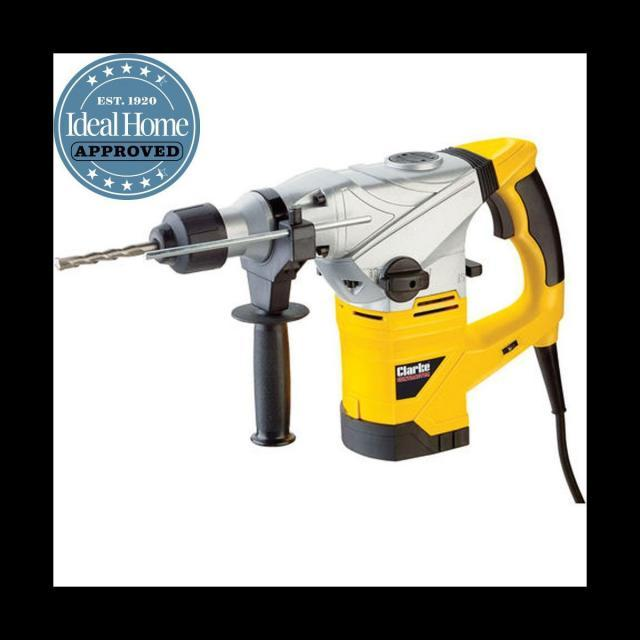drill: (53, 136, 566, 462)
